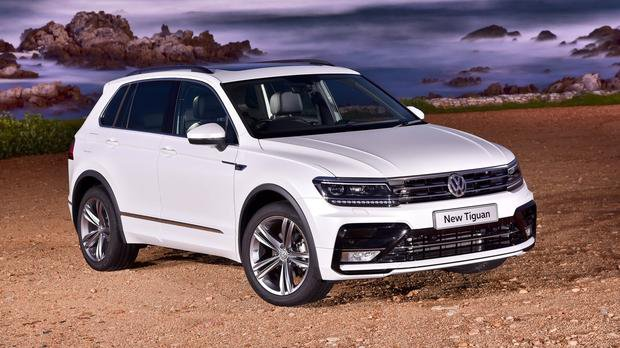car: (69, 56, 536, 284)
